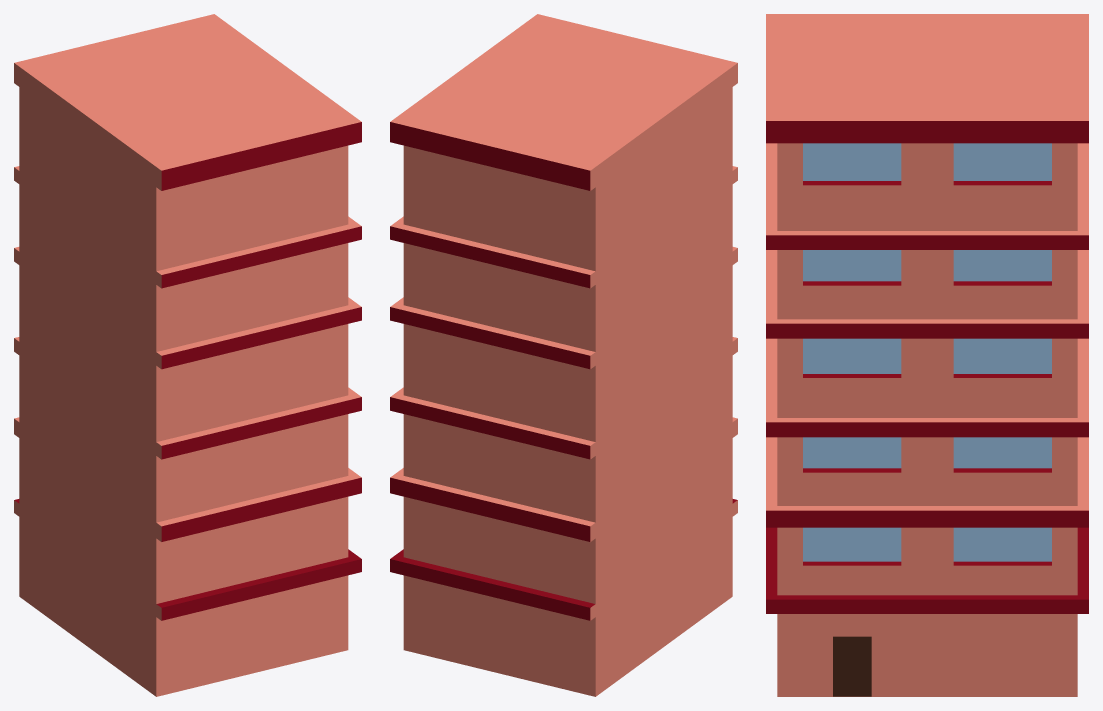
File: red building 2.fbx
3 views of the same model, side by side, from view 1: azimuth 30°, elevation 25°; view 2: azimuth 150°, elevation 25°; view 3: azimuth 270°, elevation 25° (orthographic). The views are drawn at different scales.
Parts seen in each view (by area): view 1: Cube; view 2: Cube; view 3: Cube.
Boxes of the visible parts, x1,y1,x2,y2 form: Cube: [14, 14, 361, 696]; Cube: [390, 14, 737, 696]; Cube: [766, 14, 1088, 696].
Size of the model in its own units: 209 by 527 by 266.
